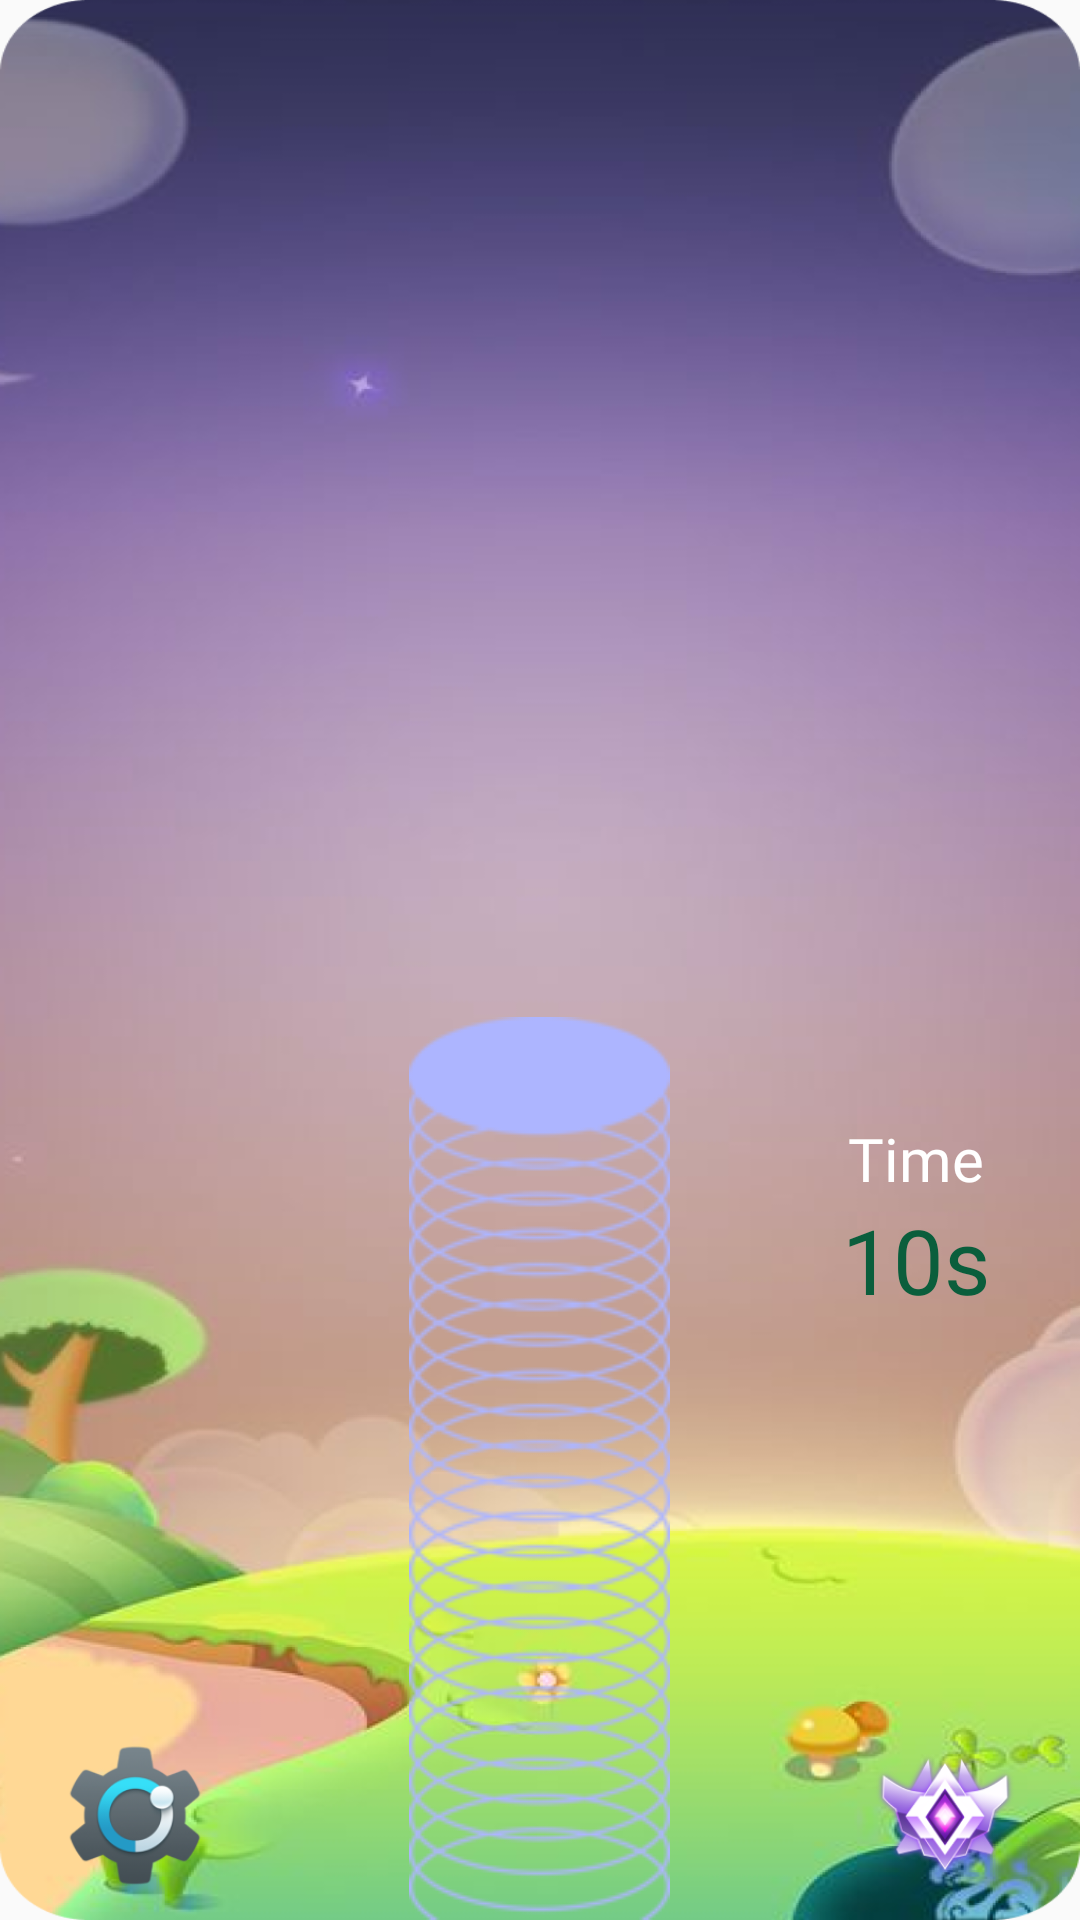

Icons on this 1080px×1920px Android screen, each with the point to tap as (x=x, y=y):
rank: (x=945, y=1815)
setting: (x=135, y=1815)
